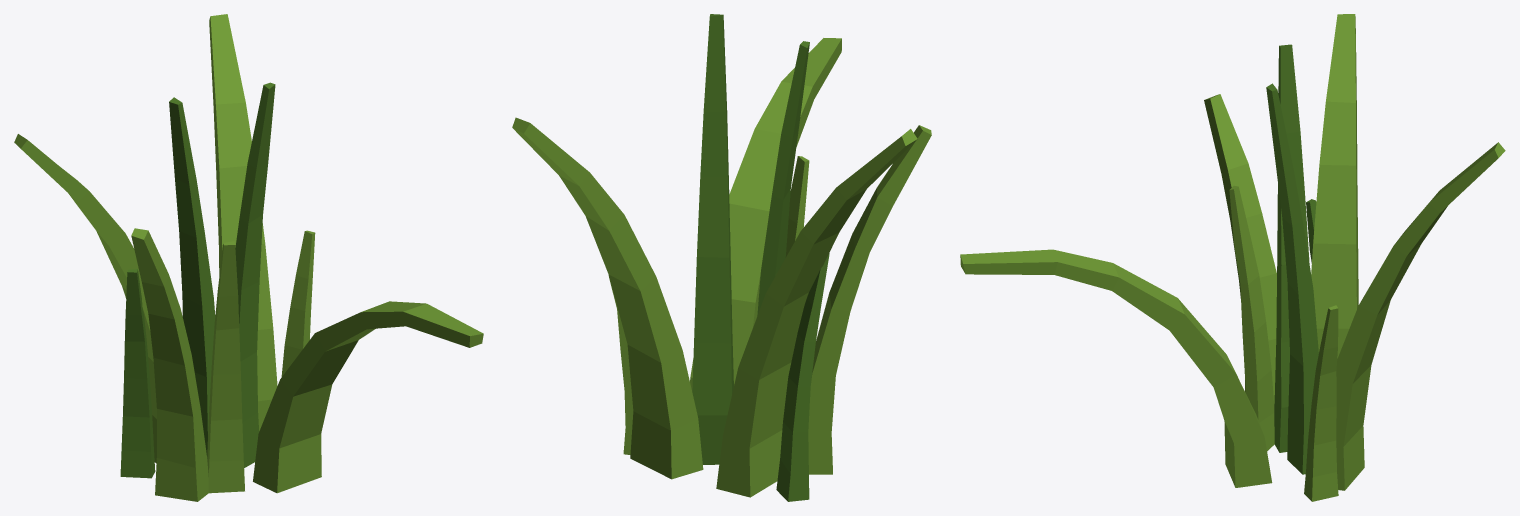
The model's file is Grass004.gltf.
3 renders of one model, left to right at view 1: azimuth 30°, elevation 25°; view 2: azimuth 150°, elevation 25°; view 3: azimuth 270°, elevation 25°, orthographic. The views are drawn at different scales.
Parts seen in each view (by area): view 1: Grass004; view 2: Grass004; view 3: Grass004.
Boxes of the visible parts, box(x1,y1,x2,y2) form: Grass004: box(14, 14, 483, 501); Grass004: box(512, 14, 931, 501); Grass004: box(960, 14, 1505, 501).
Size of the model in its own units: 0.2056 by 0.2635 by 0.3364.
